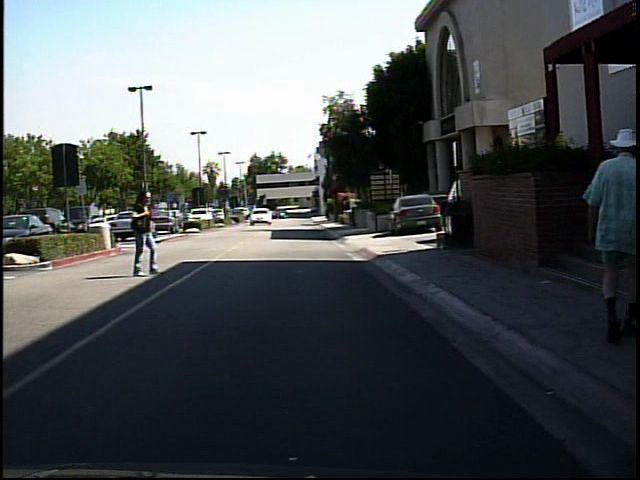person: (577, 111, 639, 348), (120, 185, 164, 279)
